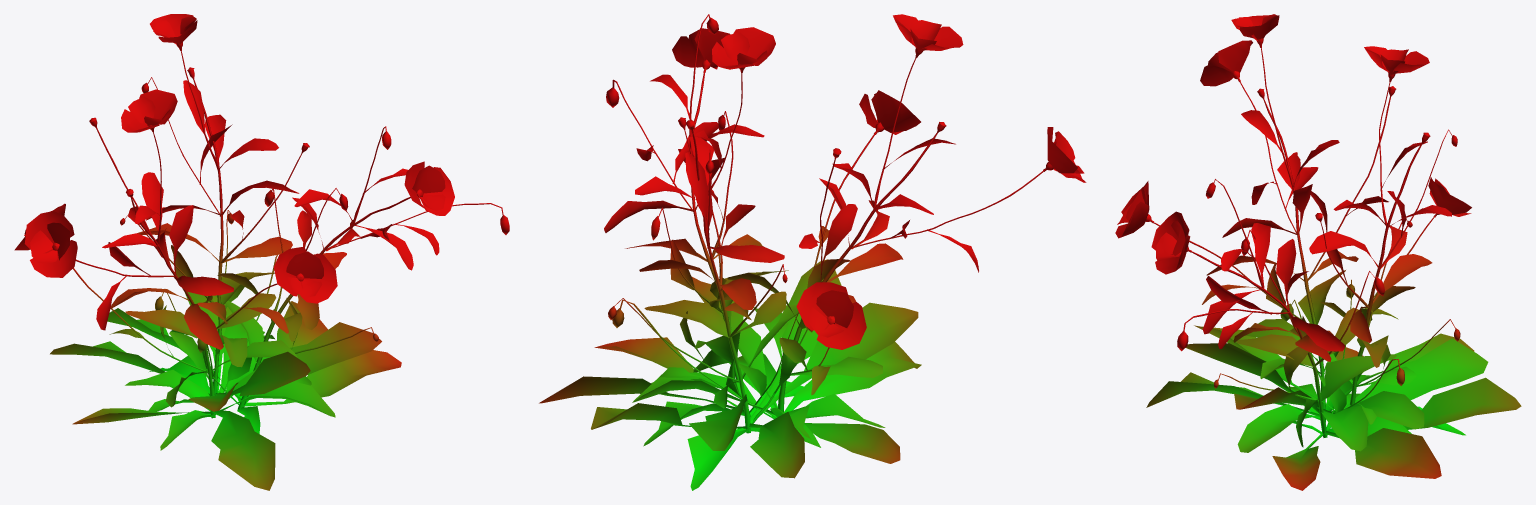
File: Field Poppy_LOD1_Var7_vmcobd0ja.fbx
3 views of the same model, side by side, from view 1: azimuth 30°, elevation 25°; view 2: azimuth 150°, elevation 25°; view 3: azimuth 270°, elevation 25° (orthographic). The views are drawn at different scales.
Parts seen in each view (by area): view 1: _pwky_Var7_LOD1; view 2: _pwky_Var7_LOD1; view 3: _pwky_Var7_LOD1.
Part boxes in pixels (left/top/right/bottom): _pwky_Var7_LOD1: left=14, top=14, right=509, bottom=490; _pwky_Var7_LOD1: left=539, top=14, right=1086, bottom=490; _pwky_Var7_LOD1: left=1115, top=14, right=1521, bottom=490.
Bounding box in the file's own units: 62.77 × 50.49 × 48.59.
